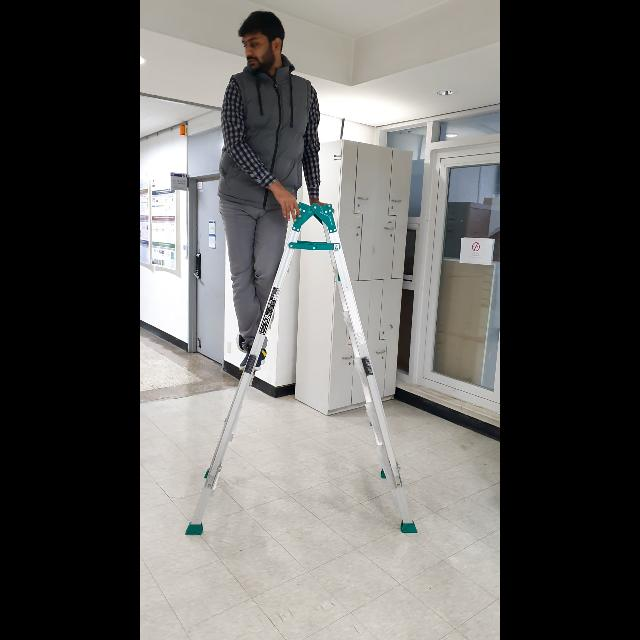vest: (182, 199, 420, 541), (216, 9, 334, 375)
